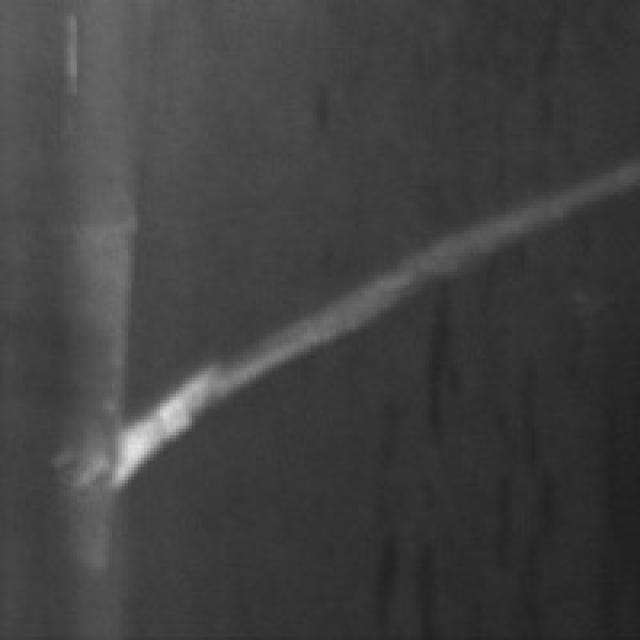scratches: (61, 163, 624, 496)
